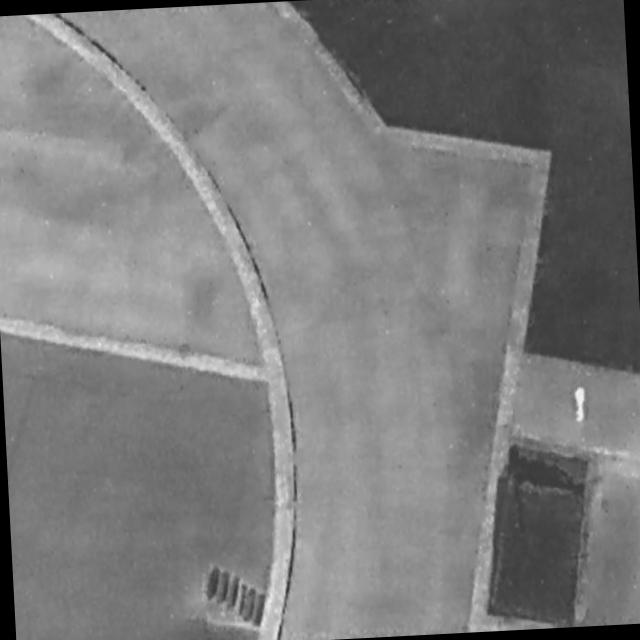person: (572, 386, 589, 424)
